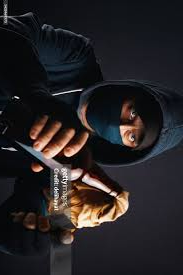terrorist: (3, 2, 183, 227)
